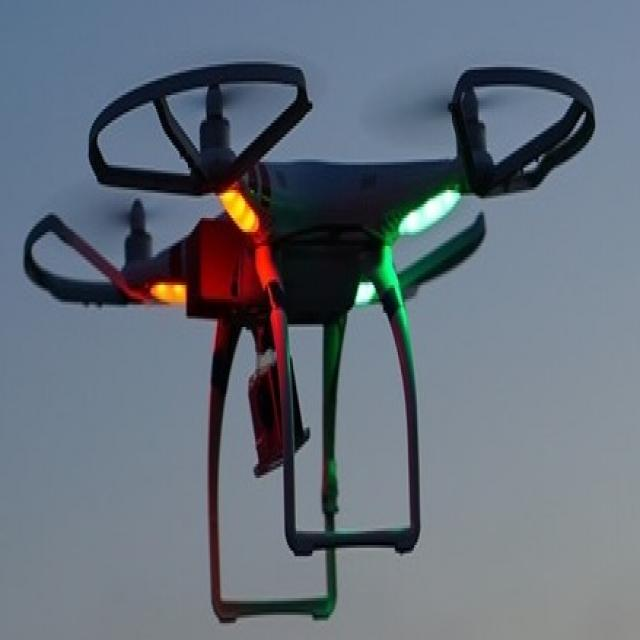drone: (10, 33, 615, 640)
